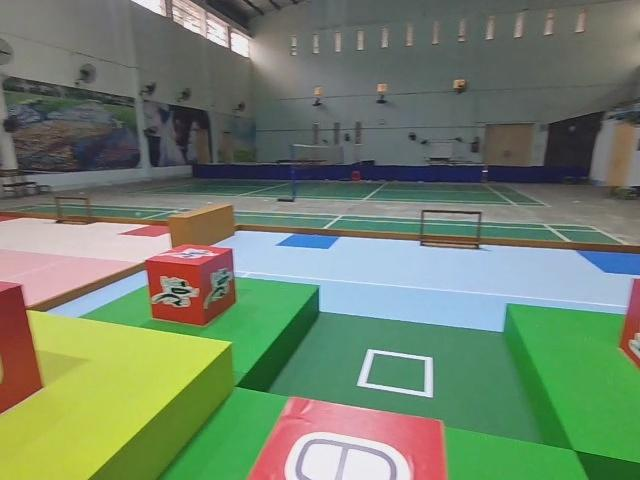R1: (147, 243, 237, 325)
R2 Fake: (247, 395, 446, 480)
